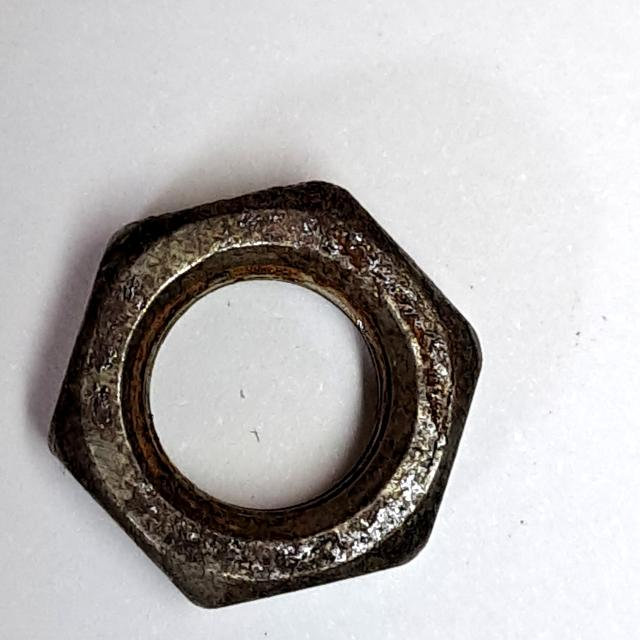Rust: (36, 171, 496, 620)
